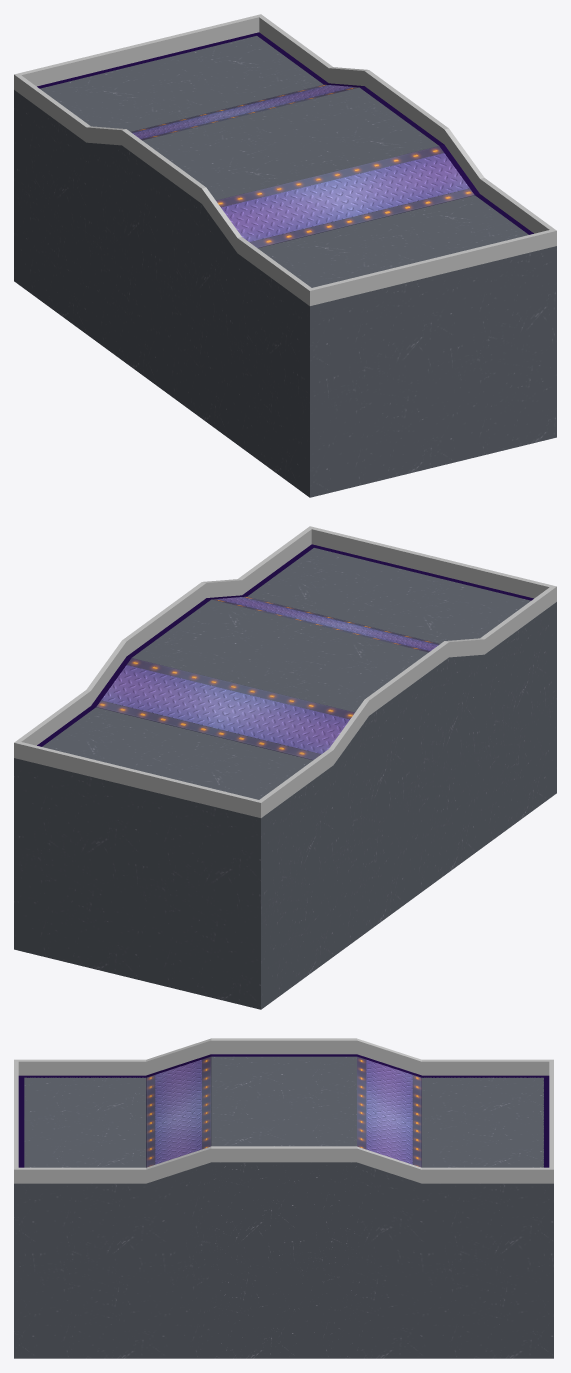
File: Duel_A1_Stage_PhysicPowerup.fbx
3 renders of one model, top to bottom at view 1: azimuth 30°, elevation 25°; view 2: azimuth 150°, elevation 25°; view 3: azimuth 270°, elevation 25°, orthographic. The views are drawn at different scales.
Visible parts, largest first — view 1: Platform_Cube__1_.021, Platform_Cube__1_.022, Platform_Cube__1_.026, Platform_Cube__1_.023; view 2: Platform_Cube__1_.021, Platform_Cube__1_.022, Platform_Cube__1_.026, Platform_Cube__1_.023; view 3: Platform_Cube__1_.021, Platform_Cube__1_.022, Platform_Cube__1_.026, Platform_Cube__1_.023.
Boxes of the visible parts, x1,y1,x2,y2 form: Platform_Cube__1_.021: (14, 36, 556, 497); Platform_Cube__1_.022: (14, 14, 556, 305); Platform_Cube__1_.026: (131, 84, 474, 248); Platform_Cube__1_.023: (37, 32, 533, 234); Platform_Cube__1_.021: (14, 548, 556, 1009); Platform_Cube__1_.022: (14, 526, 556, 817); Platform_Cube__1_.026: (96, 596, 439, 760); Platform_Cube__1_.023: (37, 544, 533, 746); Platform_Cube__1_.021: (14, 1056, 553, 1358); Platform_Cube__1_.022: (14, 1038, 553, 1183); Platform_Cube__1_.026: (146, 1056, 421, 1167); Platform_Cube__1_.023: (18, 1054, 549, 1167).
Size of the model in its own units: 2700 by 2402 by 5630.
